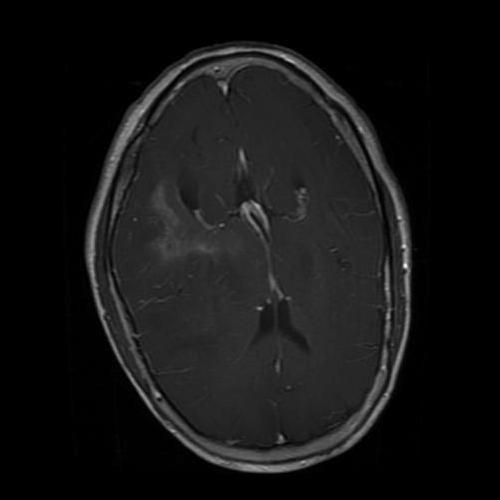Tumour-Glioma: (136, 180, 218, 264)
